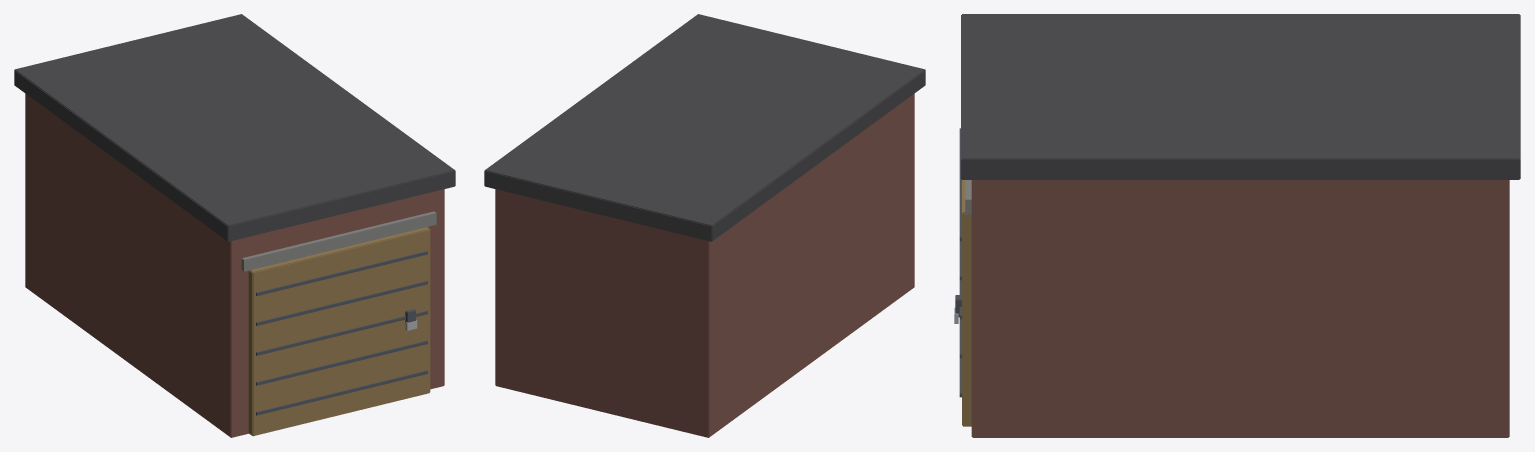
The model's file is garage_gate.glb.
The picture shows the model from 3 angles, left to right: view 1: azimuth 30°, elevation 25°; view 2: azimuth 150°, elevation 25°; view 3: azimuth 270°, elevation 25°; orthographic projection. The views are drawn at different scales.
Visible parts, largest first — view 1: garage_mesh; view 2: garage_mesh; view 3: garage_mesh.
Boxes of the visible parts, x1,y1,x2,y2 form: garage_mesh: (14,14,455,437); garage_mesh: (484,14,925,437); garage_mesh: (954,14,1520,437).
Size of what is drawn, in the model's own units: 3.2 by 2.91 by 5.26.
